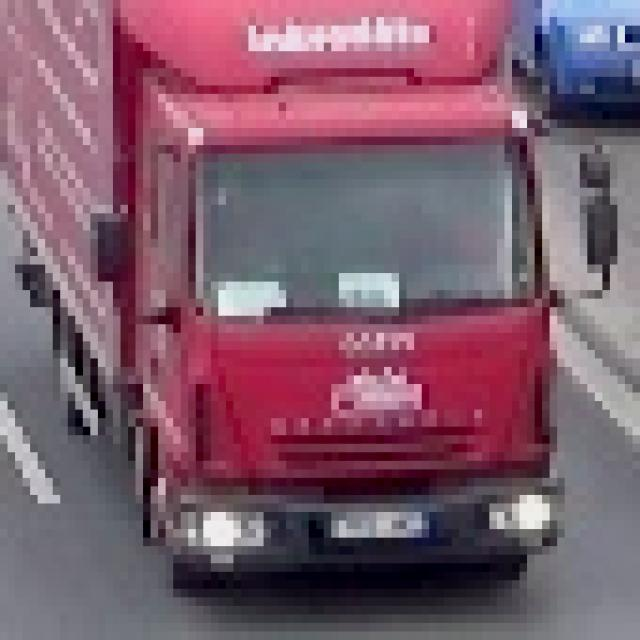truck: (1, 1, 611, 590)
